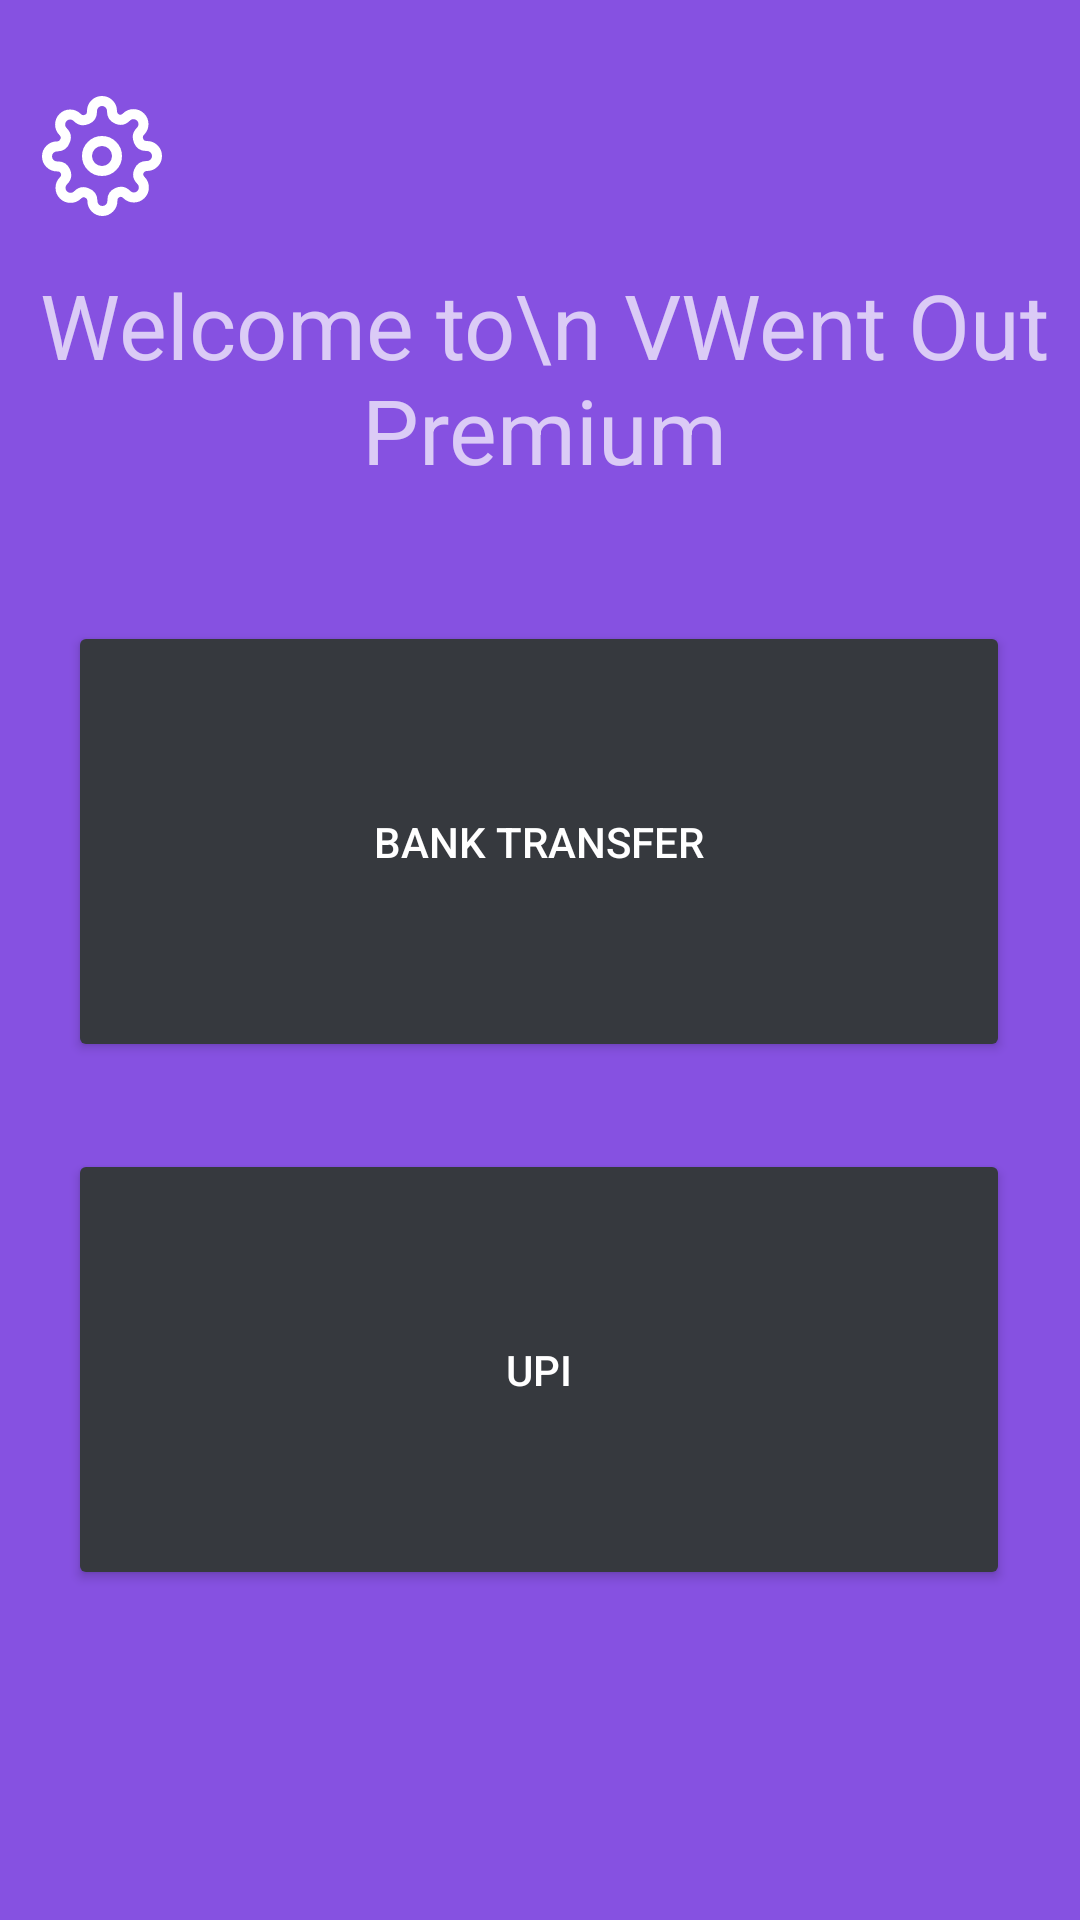

Point at icon controls on the screen. Image size 1080*1920, points as (x=x, y=y).
settings: (x=102, y=156)
